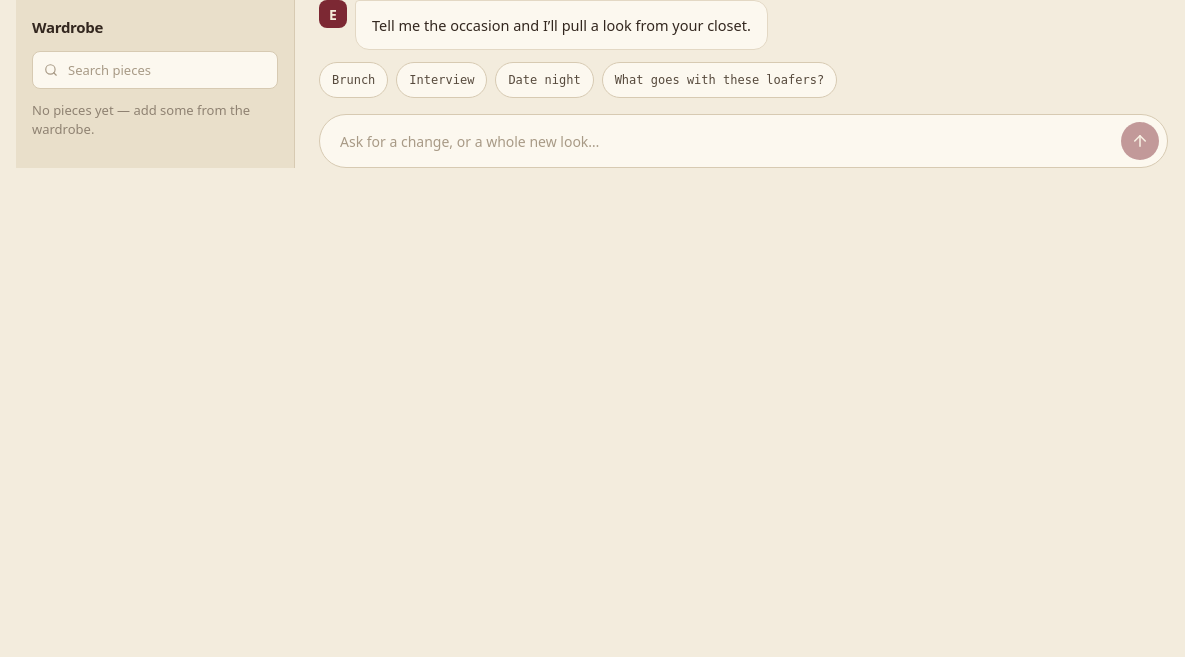
Stylist route › keeps the look and shows a retryable message when a wear write fails
Type "streetwear today" into the field named "message the stylist". click: [724, 142]
box: [338,131,1111,152]
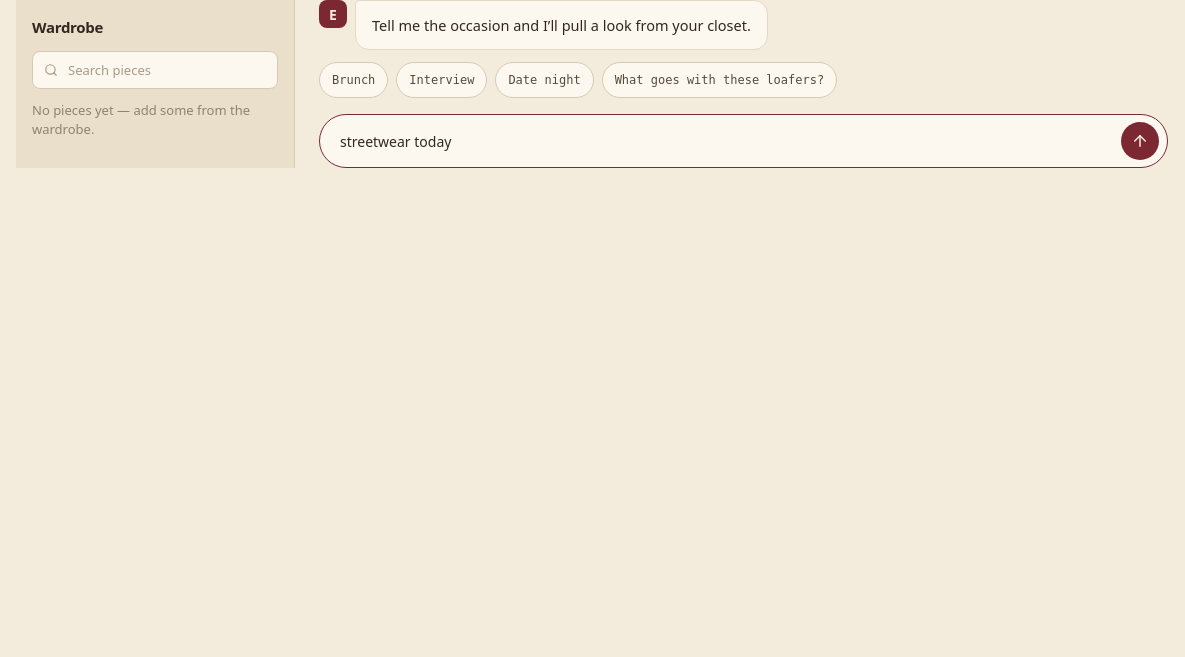
Click the button named "send". click: [1140, 142]
box: [1121,122,1159,160]
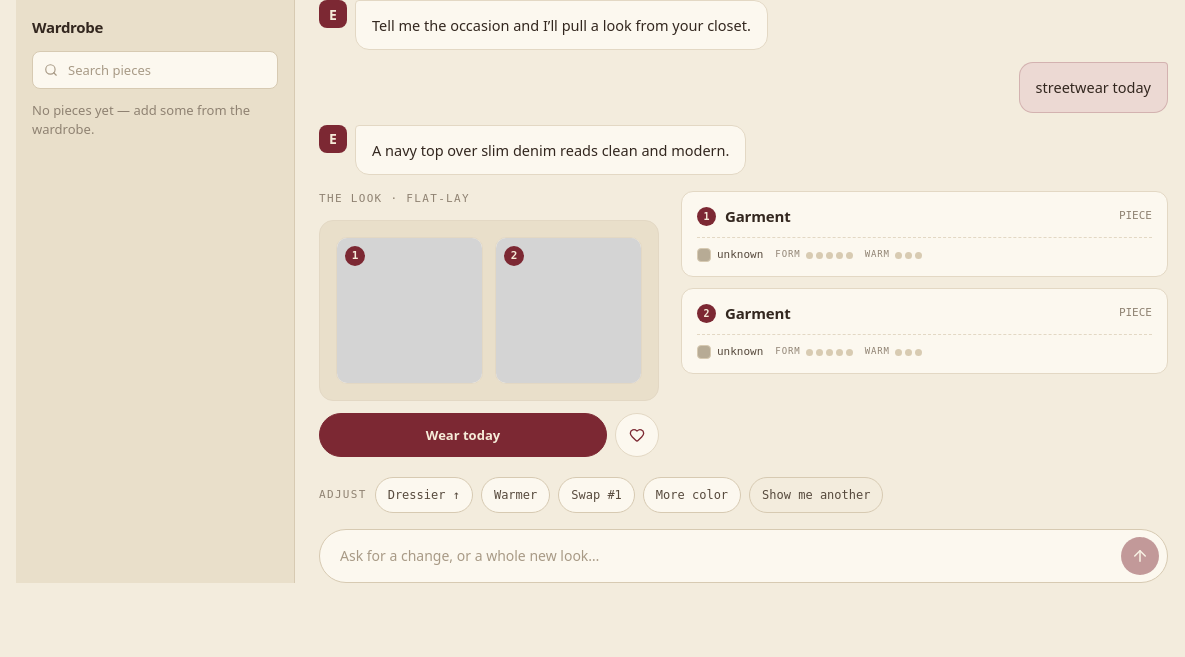
Check: the text "A navy top over slim denim reads clean and modern." is shown, box [355,125,746,175]
Click the button "Wear today". click: [463, 435]
box: [319,413,607,457]
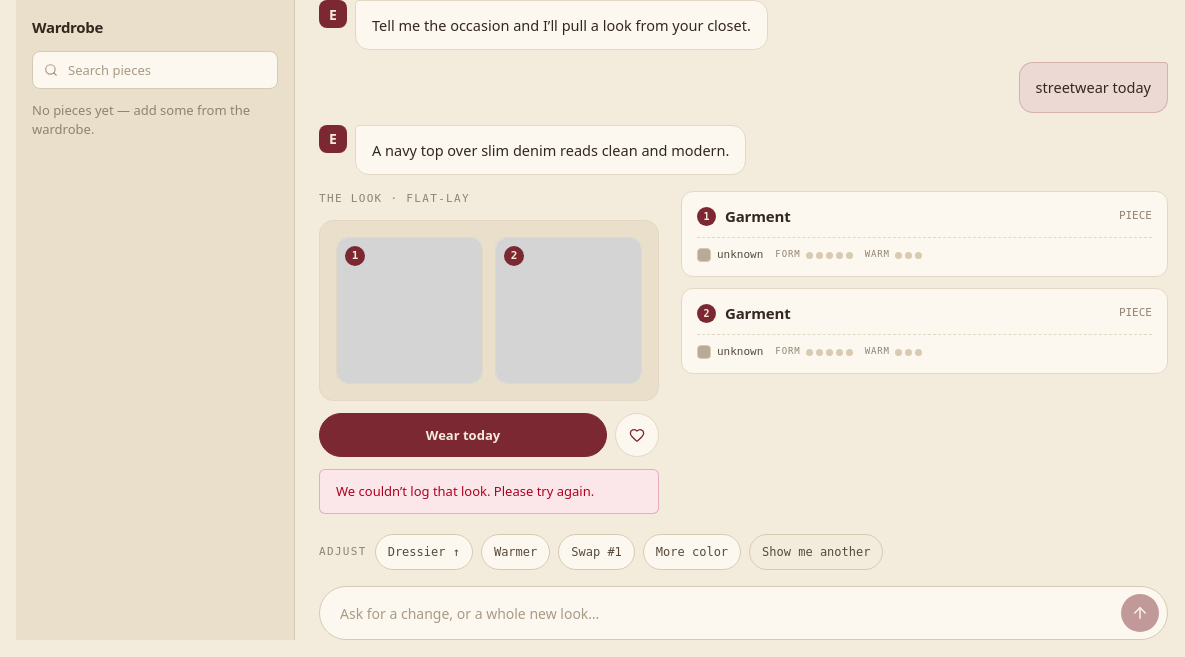
Check: the text "A navy top over slim denim reads clean and modern." is shown, box [355,125,746,175]
Check: the button "Wear today" is shown, box [319,413,607,457]
Check: the text "We couldn’t log that look. Please try again." is shown, box [319,469,659,514]
